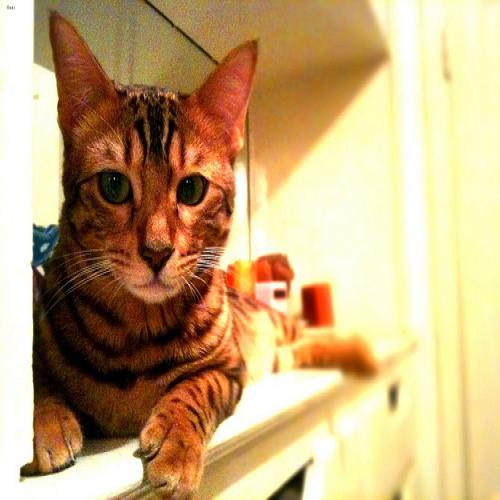bengal: (36, 1, 268, 325)
